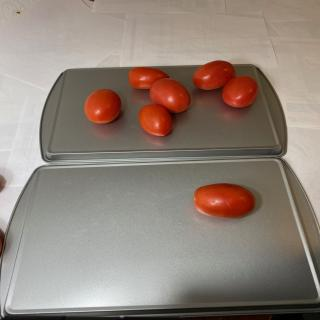Tomato: (193, 183, 256, 219), (149, 78, 191, 113), (84, 88, 122, 124), (192, 60, 236, 90), (222, 76, 259, 108), (138, 104, 172, 136), (128, 66, 170, 90)
